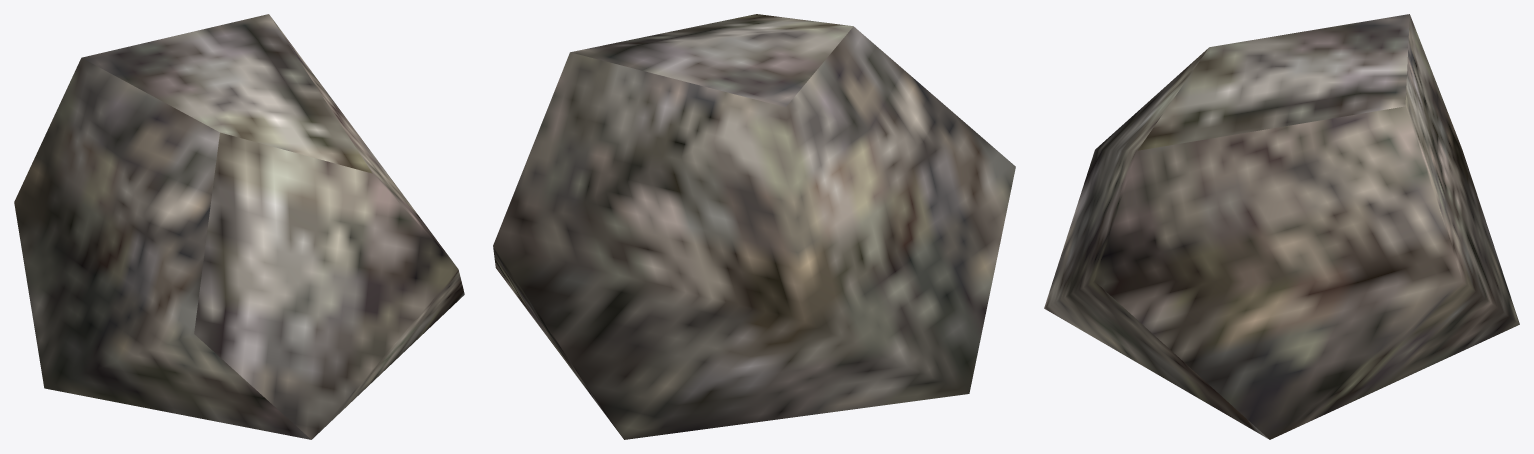
The model's file is general_obj_pieceofstone04.glb.
The picture shows the model from 3 angles, left to right: view 1: azimuth 30°, elevation 25°; view 2: azimuth 150°, elevation 25°; view 3: azimuth 270°, elevation 25°; orthographic projection. The views are drawn at different scales.
Visible parts, largest first — view 1: Object05; view 2: Object05; view 3: Object05.
Boxes of the visible parts, left/top/right/bottom form: Object05: left=14, top=14, right=464, bottom=439; Object05: left=493, top=14, right=1015, bottom=439; Object05: left=1044, top=14, right=1519, bottom=439.
Size of the model in its own units: 0.2759 by 0.1689 by 0.2707.
1 material, 1 textured.
